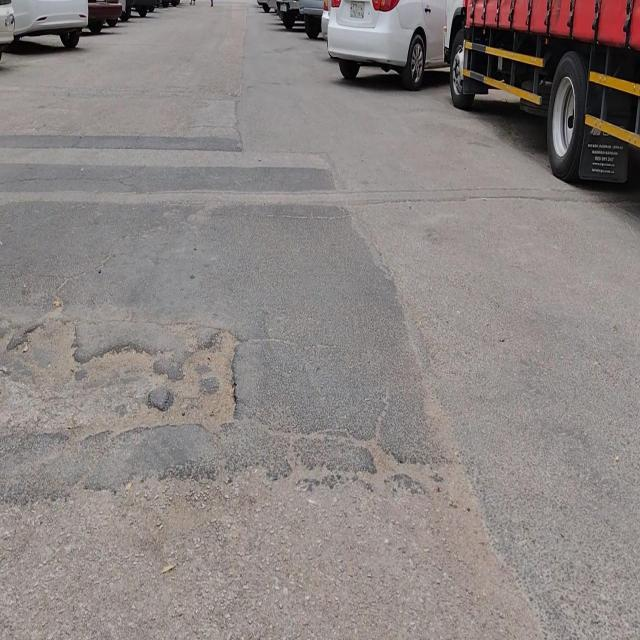Pothole: (0, 322, 235, 439)
